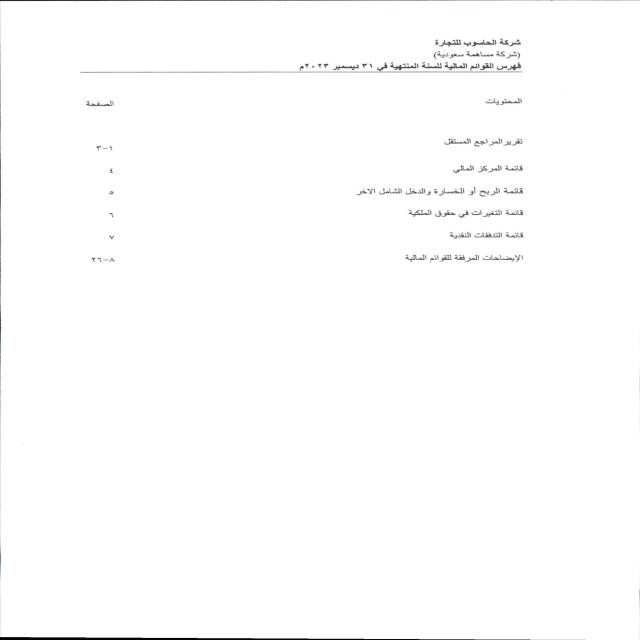other: (64, 88, 535, 276), (442, 61, 521, 70)
